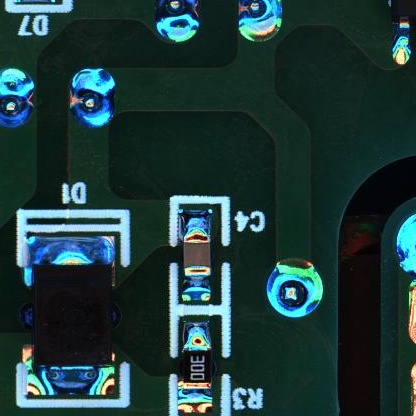spot: (265, 256, 324, 317), (70, 67, 116, 129), (151, 1, 201, 44), (1, 67, 32, 130), (236, 1, 282, 41), (395, 207, 416, 276)
